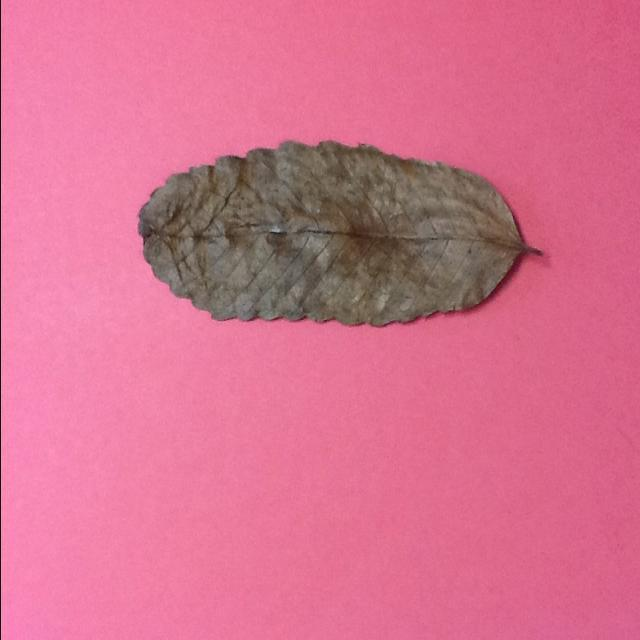foliage: (138, 142, 542, 326)
